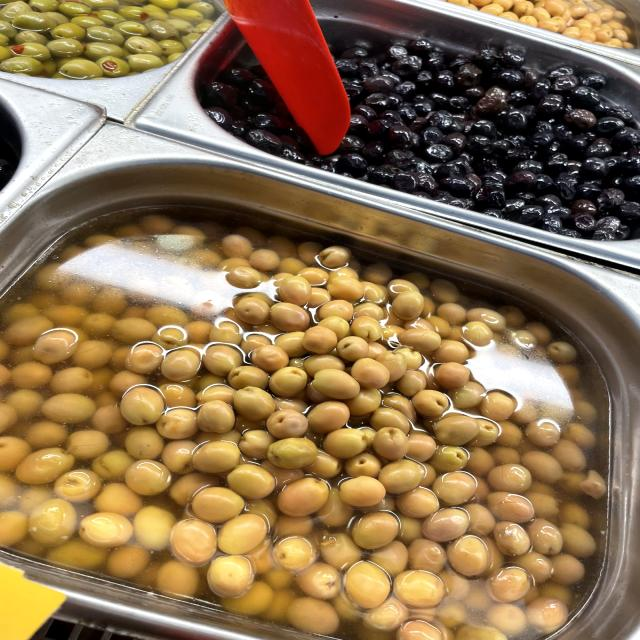olive: (417, 137, 460, 169), (359, 69, 400, 100), (501, 169, 544, 198), (387, 121, 424, 153), (559, 102, 597, 133), (422, 107, 458, 132)
